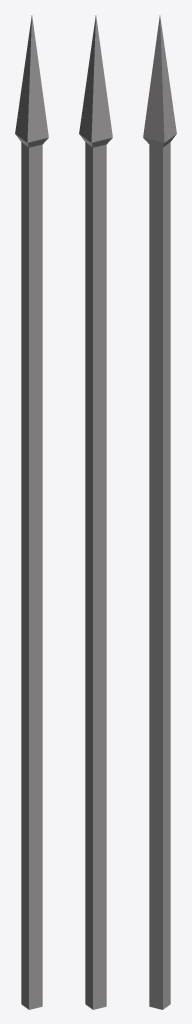
The model's file is MetalSpike_7.fbx.
The picture shows the model from 3 angles, left to right: view 1: azimuth 30°, elevation 25°; view 2: azimuth 210°, elevation 25°; view 3: azimuth 330°, elevation 25°; orthographic projection.
Parts seen in each view (by area): view 1: MetalSpike_7; view 2: MetalSpike_7; view 3: MetalSpike_7.
Boxes of the visible parts, x1,y1,x2,y2 form: MetalSpike_7: [15, 15, 48, 1009]; MetalSpike_7: [79, 15, 112, 1009]; MetalSpike_7: [143, 15, 176, 1009].
Size of the model in its own units: 2.99 by 132 by 2.99.
